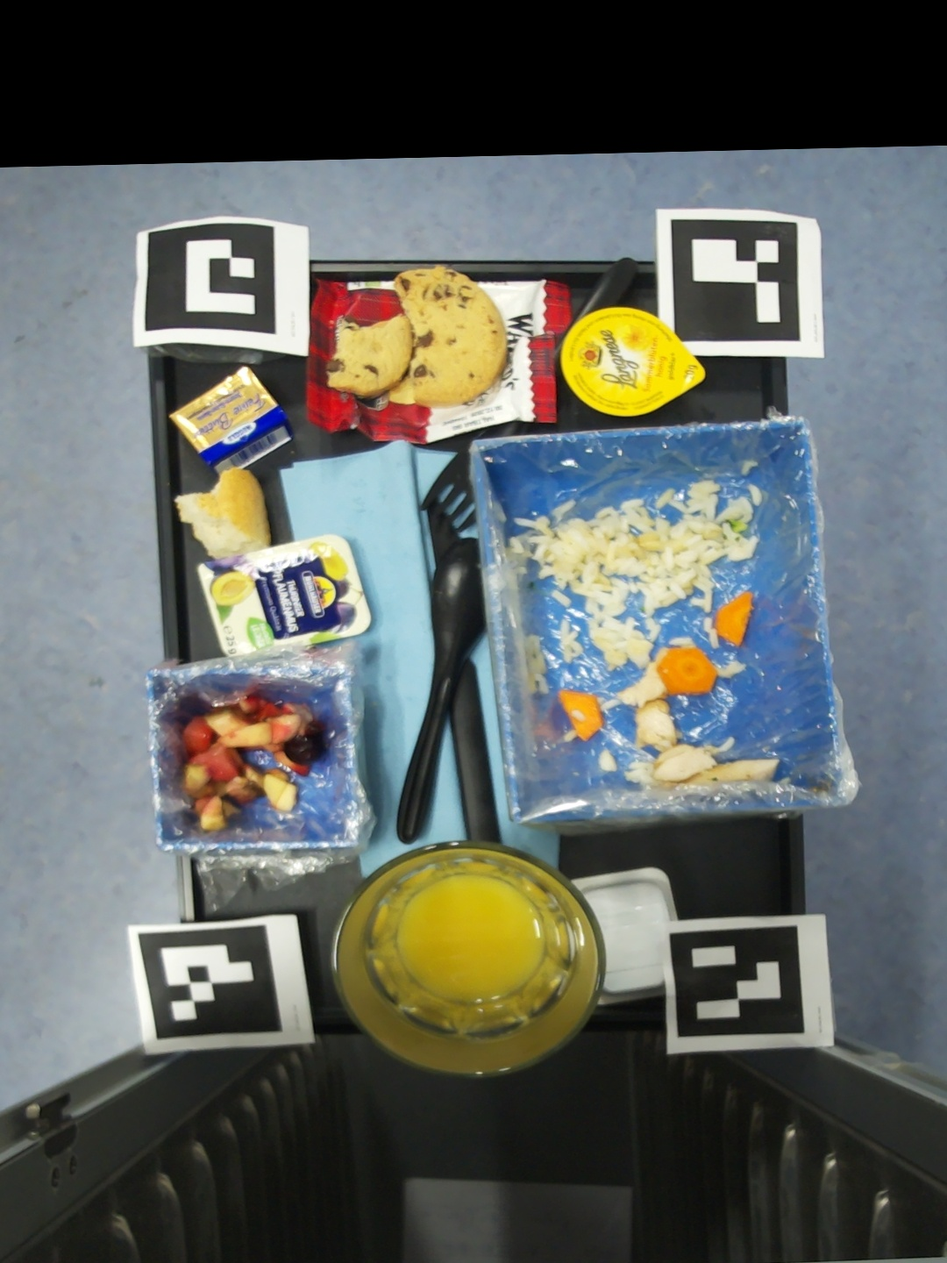bread_roll: (174, 470, 271, 559)
broccoli: (727, 519, 748, 532)
butter: (166, 366, 293, 476)
carrots: (657, 648, 717, 695), (559, 691, 603, 741), (716, 592, 752, 647)
cherry_jam: (571, 867, 678, 1004)
chicken: (633, 648, 780, 781)
cookie: (305, 267, 572, 445)
fruit_salad: (177, 694, 318, 830)
honey: (560, 307, 705, 417)
orange_juice_bottle: (332, 843, 605, 1081)
plum_jam: (197, 534, 371, 656)
rice: (505, 480, 760, 671), (524, 634, 550, 694), (597, 687, 646, 712), (561, 618, 584, 664), (624, 760, 663, 785), (697, 736, 735, 755), (713, 660, 746, 679), (703, 618, 719, 648), (598, 750, 616, 771), (550, 590, 572, 607), (747, 484, 762, 506), (669, 637, 697, 648), (494, 501, 507, 522), (741, 460, 758, 476), (564, 730, 577, 742), (658, 740, 673, 750), (572, 710, 585, 721), (675, 729, 683, 739), (777, 777, 790, 783), (653, 745, 663, 752)
